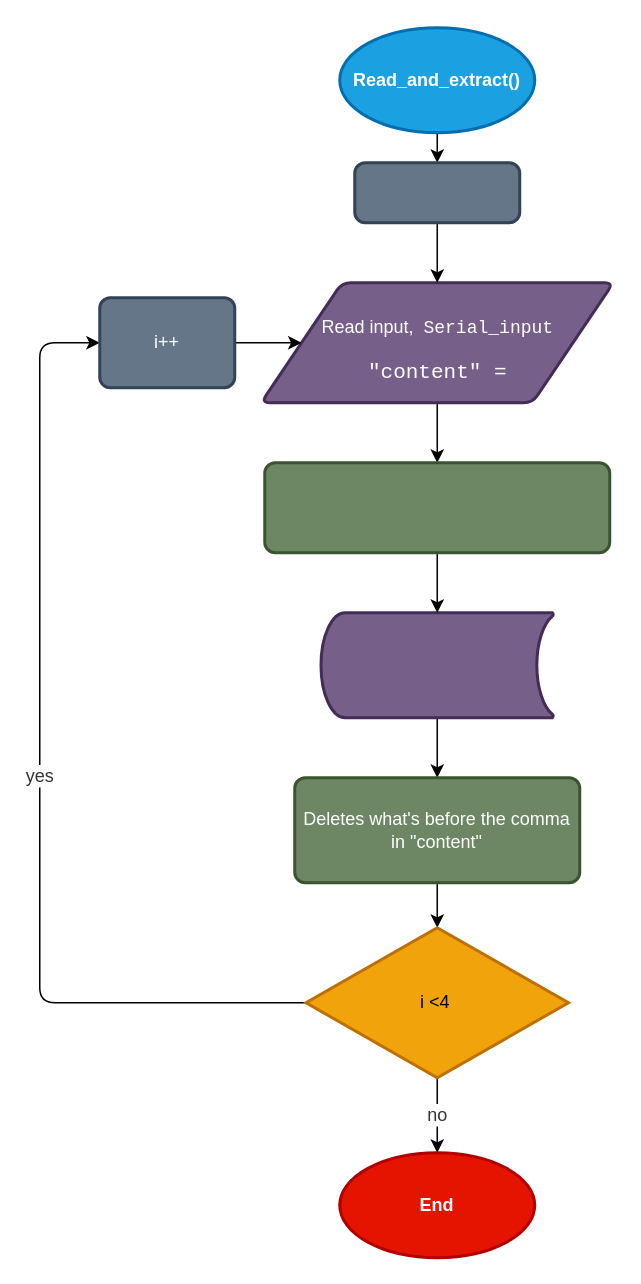
This 641x1284 diagram has some shape labels left out. Here are the shapes that lost their labels. From the top down, the centre of each, then its label:
point 436,192: i = 0
point 436,507: Locates the first comma in "content"
point 436,664: Save what's before the comma in data[i]
